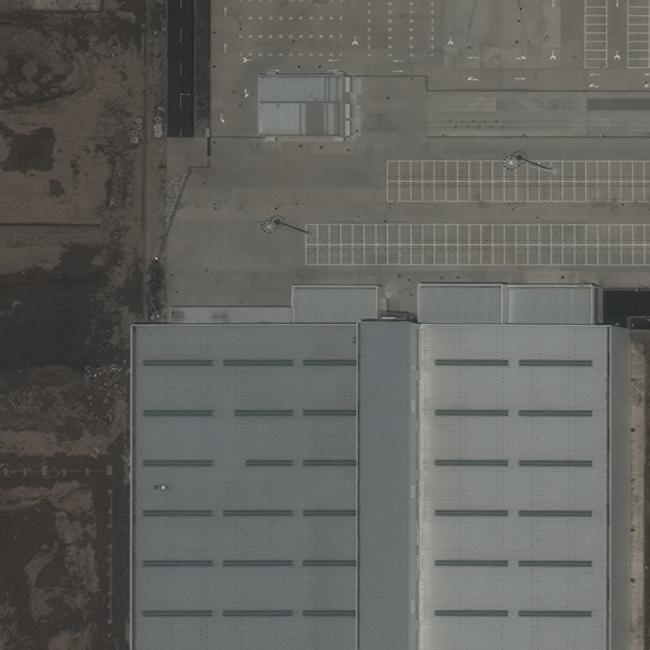parking lot: (305, 223, 646, 246), (304, 244, 645, 267), (385, 159, 645, 182), (385, 181, 645, 202), (583, 6, 608, 70), (626, 6, 650, 68)
